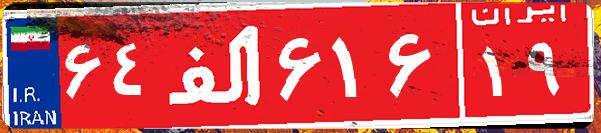1: (330, 28, 385, 110), (475, 38, 525, 113)
4: (110, 28, 158, 105)
6: (385, 28, 445, 110), (273, 28, 330, 110), (57, 26, 110, 107)
9: (525, 38, 570, 115)
الف: (158, 15, 273, 115)
